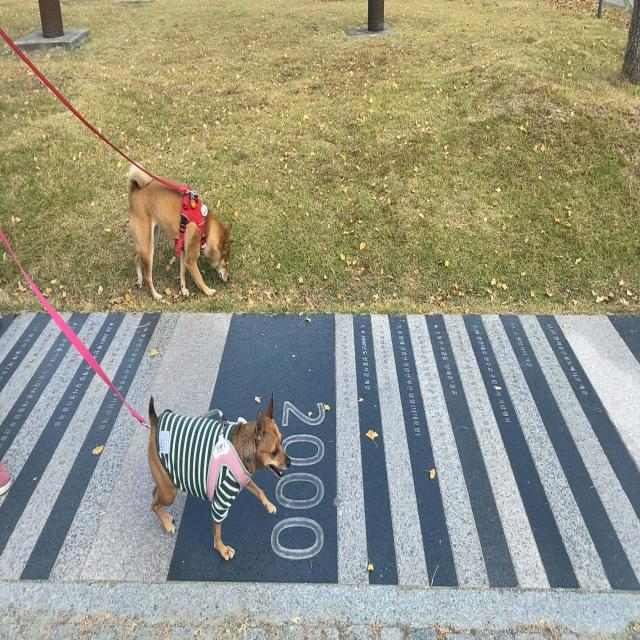Dog: (147, 389, 291, 562), (126, 160, 235, 302)
